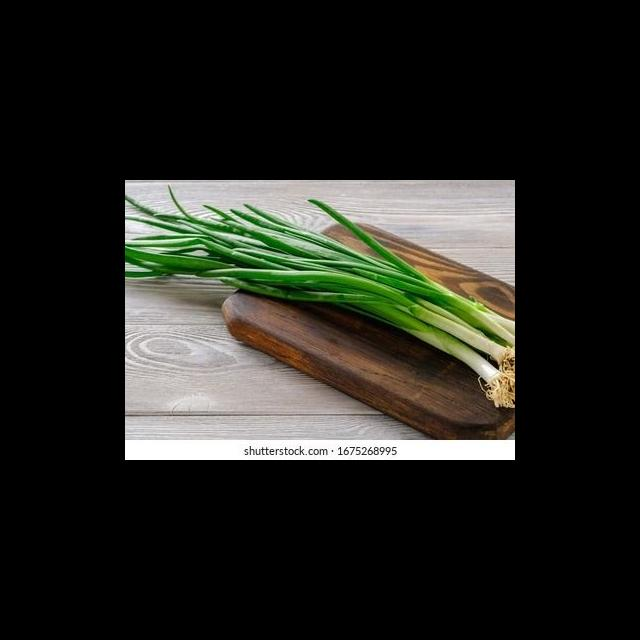green_onion: (127, 185, 515, 406)
